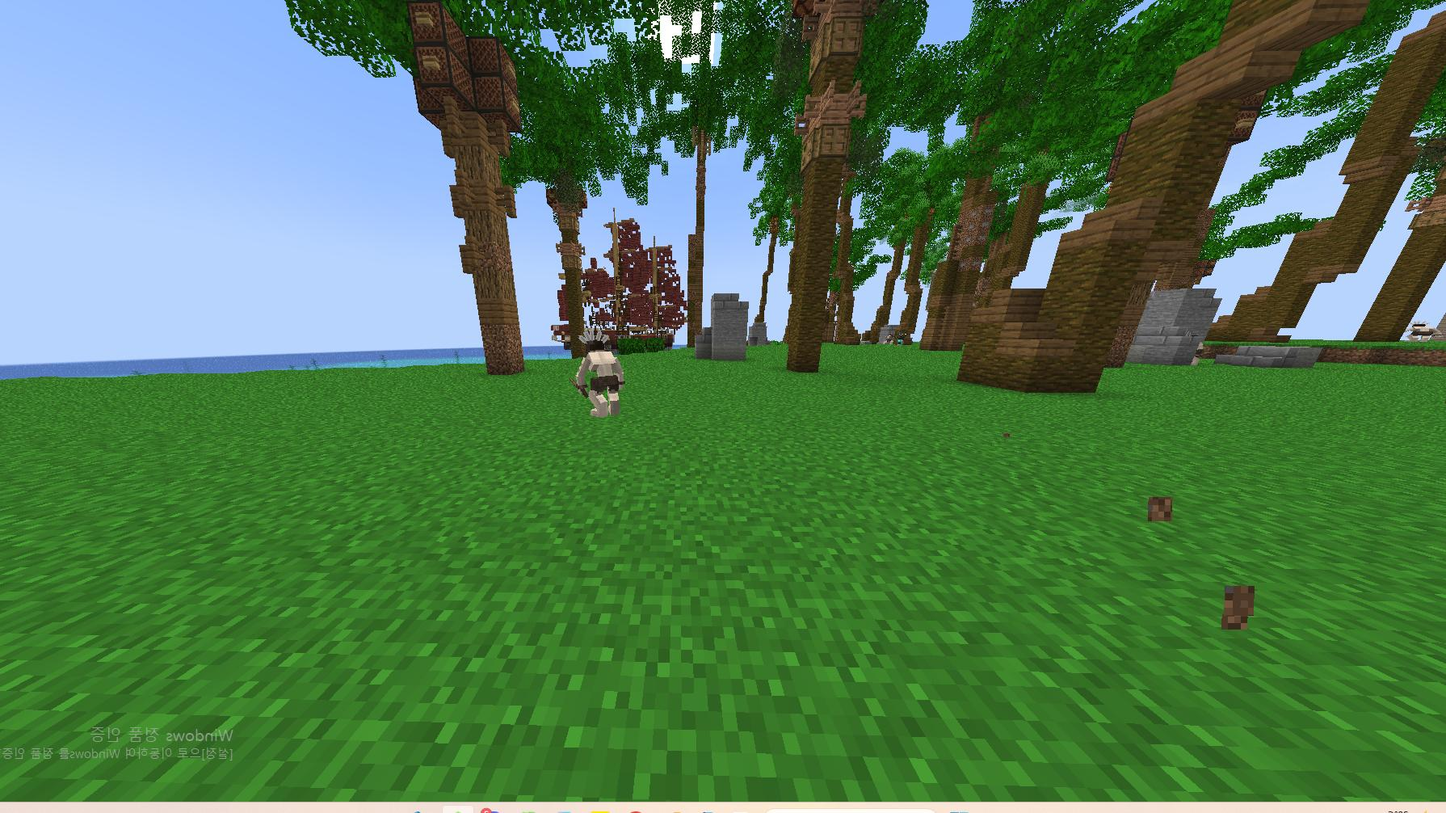bow_indian: (547, 324, 641, 421)
